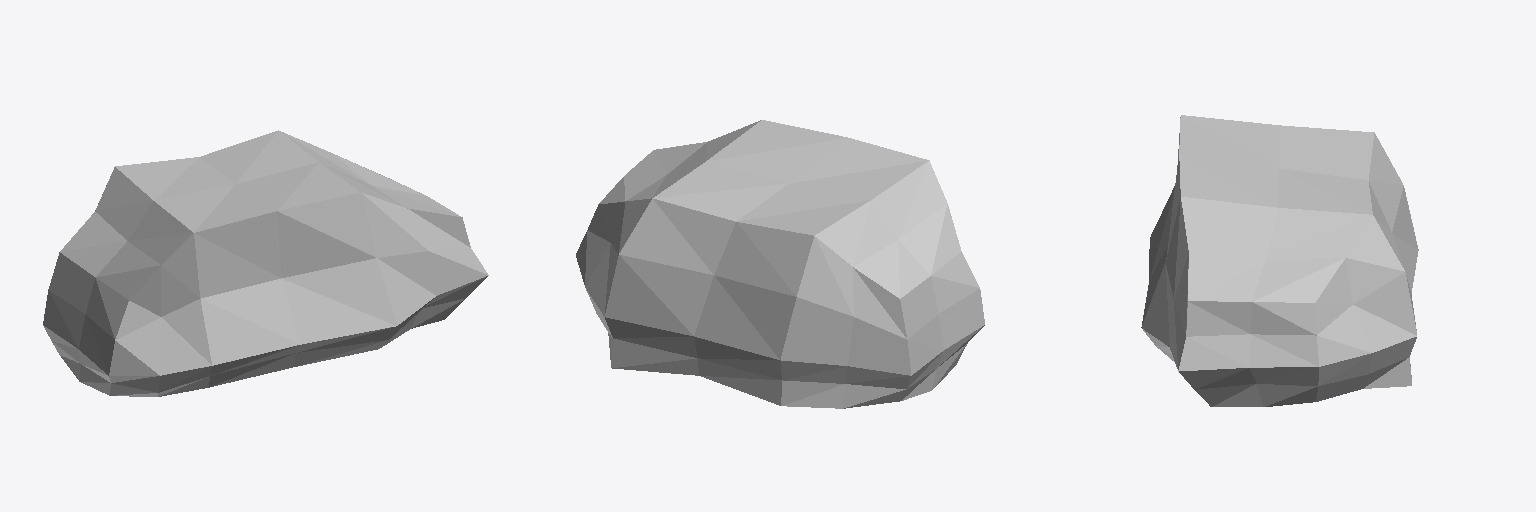
File: Rubel1.obj
3 views of the same model, side by side, from view 1: azimuth 30°, elevation 25°; view 2: azimuth 150°, elevation 25°; view 3: azimuth 270°, elevation 25° (orthographic).
Visible parts, largest first — view 1: Cube; view 2: Cube; view 3: Cube.
Boxes of the visible parts, x1=… form: Cube: x1=43, y1=130, x2=488, y2=396; Cube: x1=576, y1=120, x2=984, y2=408; Cube: x1=1141, y1=115, x2=1418, y2=406.
Size of the model in its own units: 4.2 by 1.96 by 2.77.